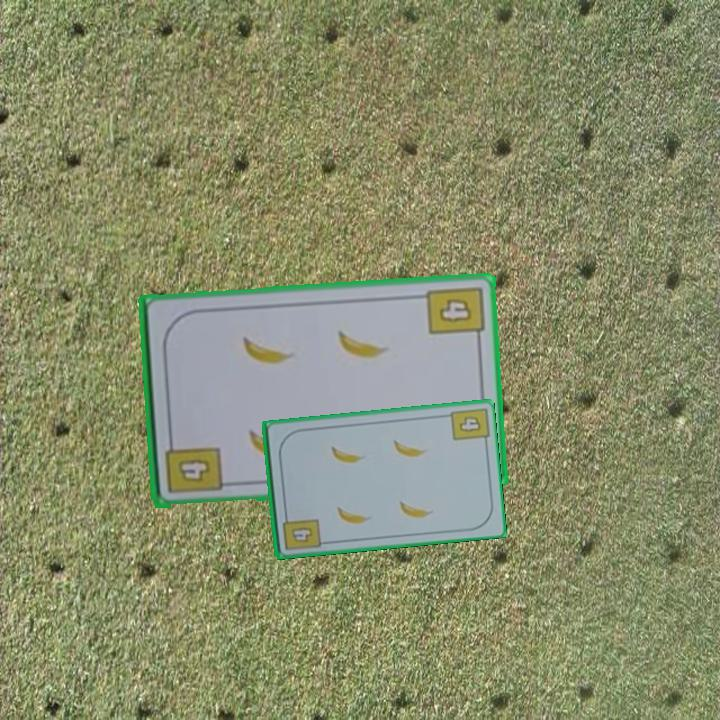4b: (423, 282, 487, 346), (279, 509, 323, 553), (178, 457, 214, 483), (456, 412, 484, 435)
